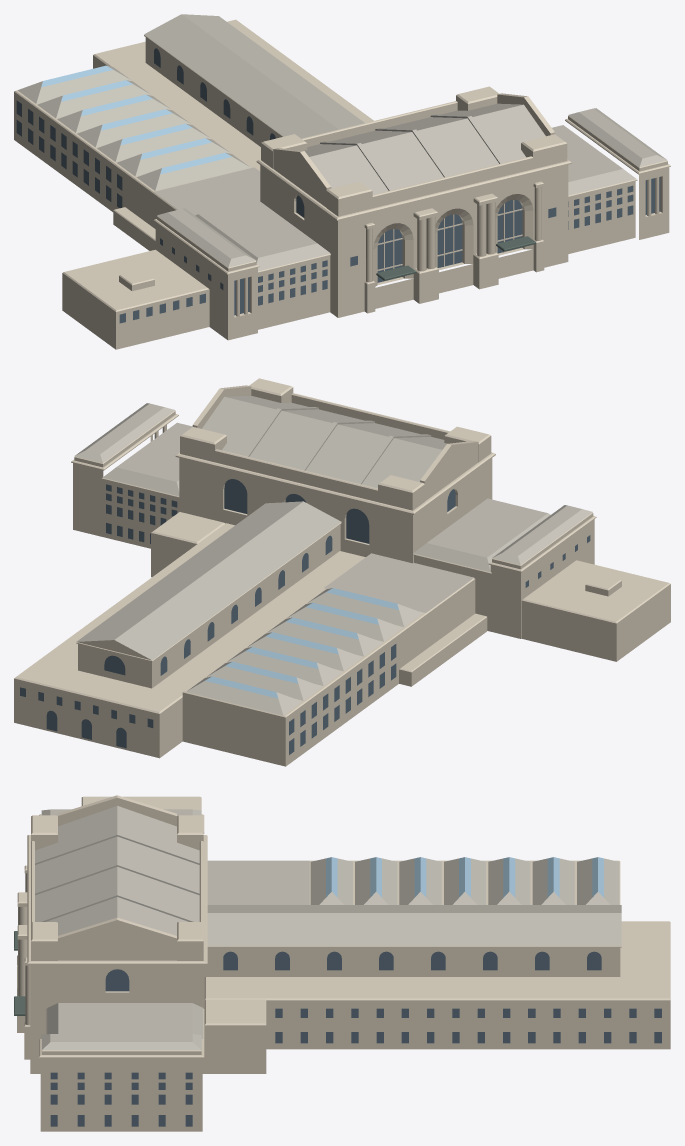
Rendered from kc-union-station.glb.
3 renders of one model, top to bottom at view 1: azimuth 30°, elevation 25°; view 2: azimuth 150°, elevation 25°; view 3: azimuth 270°, elevation 25°, orthographic. The views are drawn at different scales.
Visible parts, largest first — view 1: Kansas City Union Station; view 2: Kansas City Union Station; view 3: Kansas City Union Station.
Part boxes in pixels (x1=…): Kansas City Union Station: x1=14, y1=14, x2=670, y2=349; Kansas City Union Station: x1=14, y1=378, x2=670, y2=766; Kansas City Union Station: x1=14, y1=795, x2=670, y2=1131.
Size of the model in its own units: 188 by 46 by 178.
